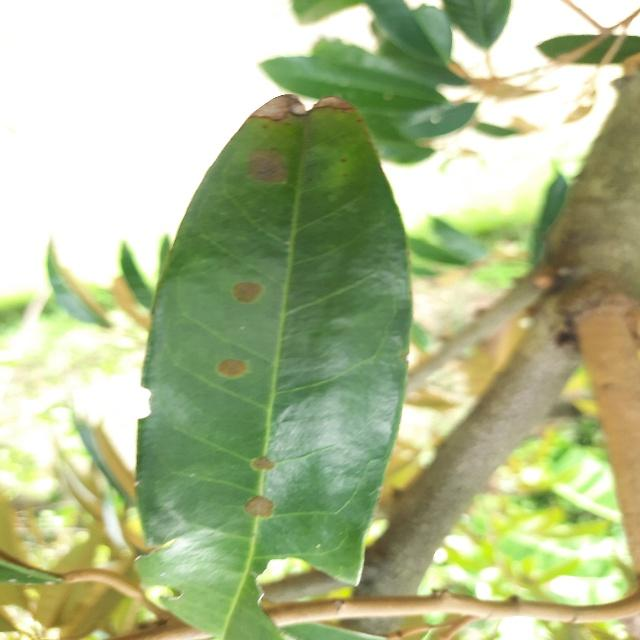Algal Leaf Spot: (126, 85, 423, 640)
